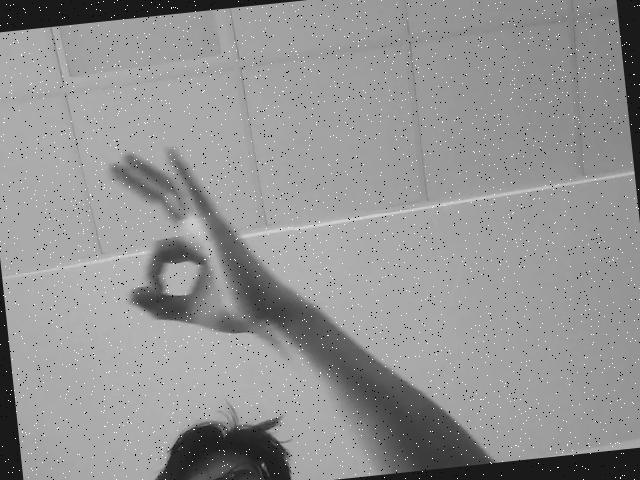OK: (101, 142, 300, 338)
